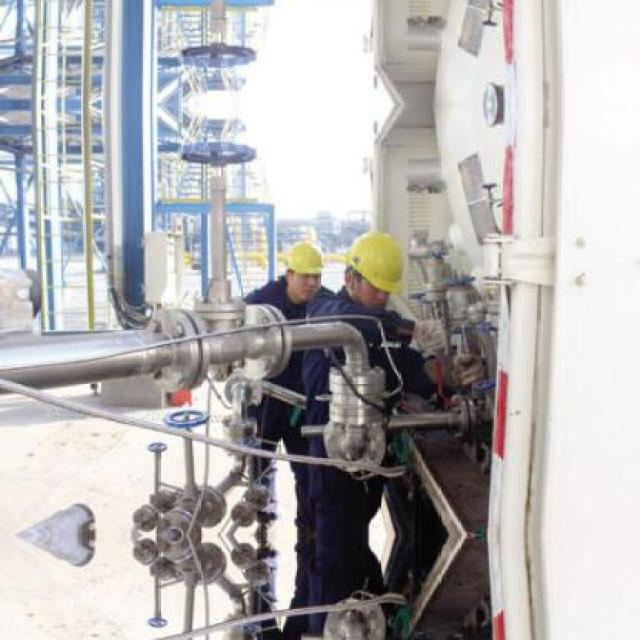helmet: (339, 225, 406, 307), (278, 232, 328, 300)
